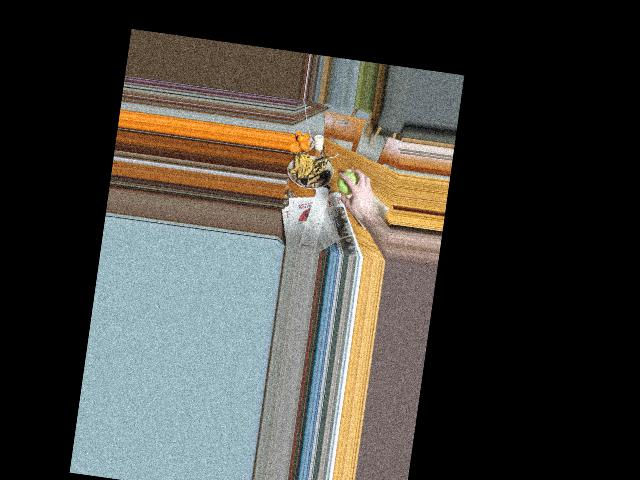apple: (336, 169, 362, 198)
